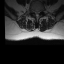CCS_normal: (36, 9, 38, 18)
LFS_stenosis: (40, 9, 42, 14)
LLS_normal: (38, 10, 40, 17)
RFS_normal: (32, 9, 34, 15)
RLS_normal: (34, 9, 36, 17)
